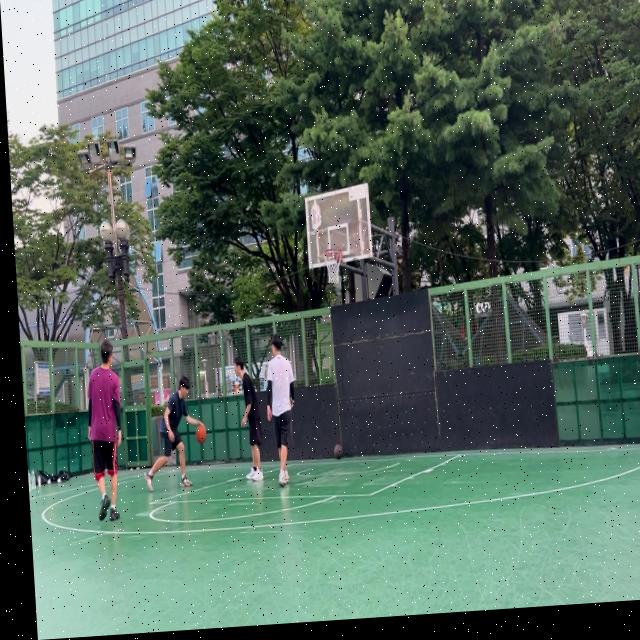basketball: (195, 424, 207, 443), (334, 443, 343, 460)
hoop: (322, 246, 344, 284)
